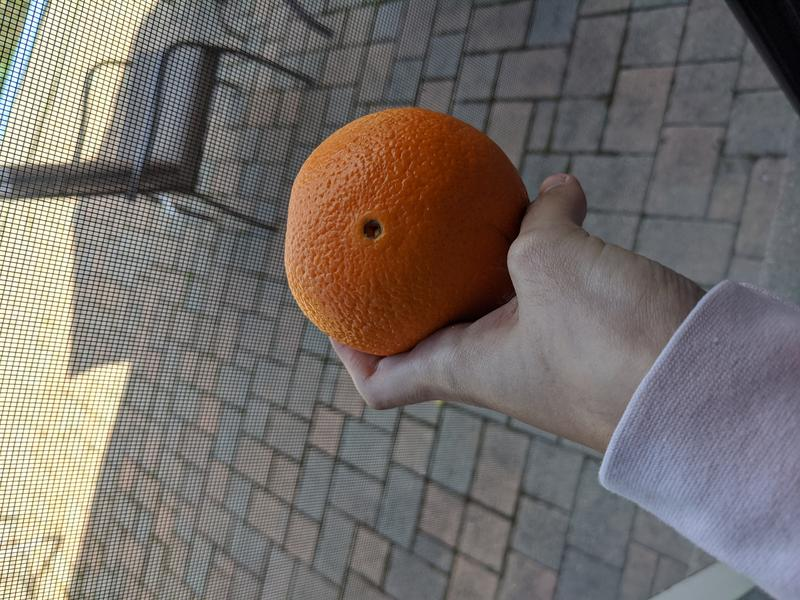orange: (284, 106, 530, 358)
